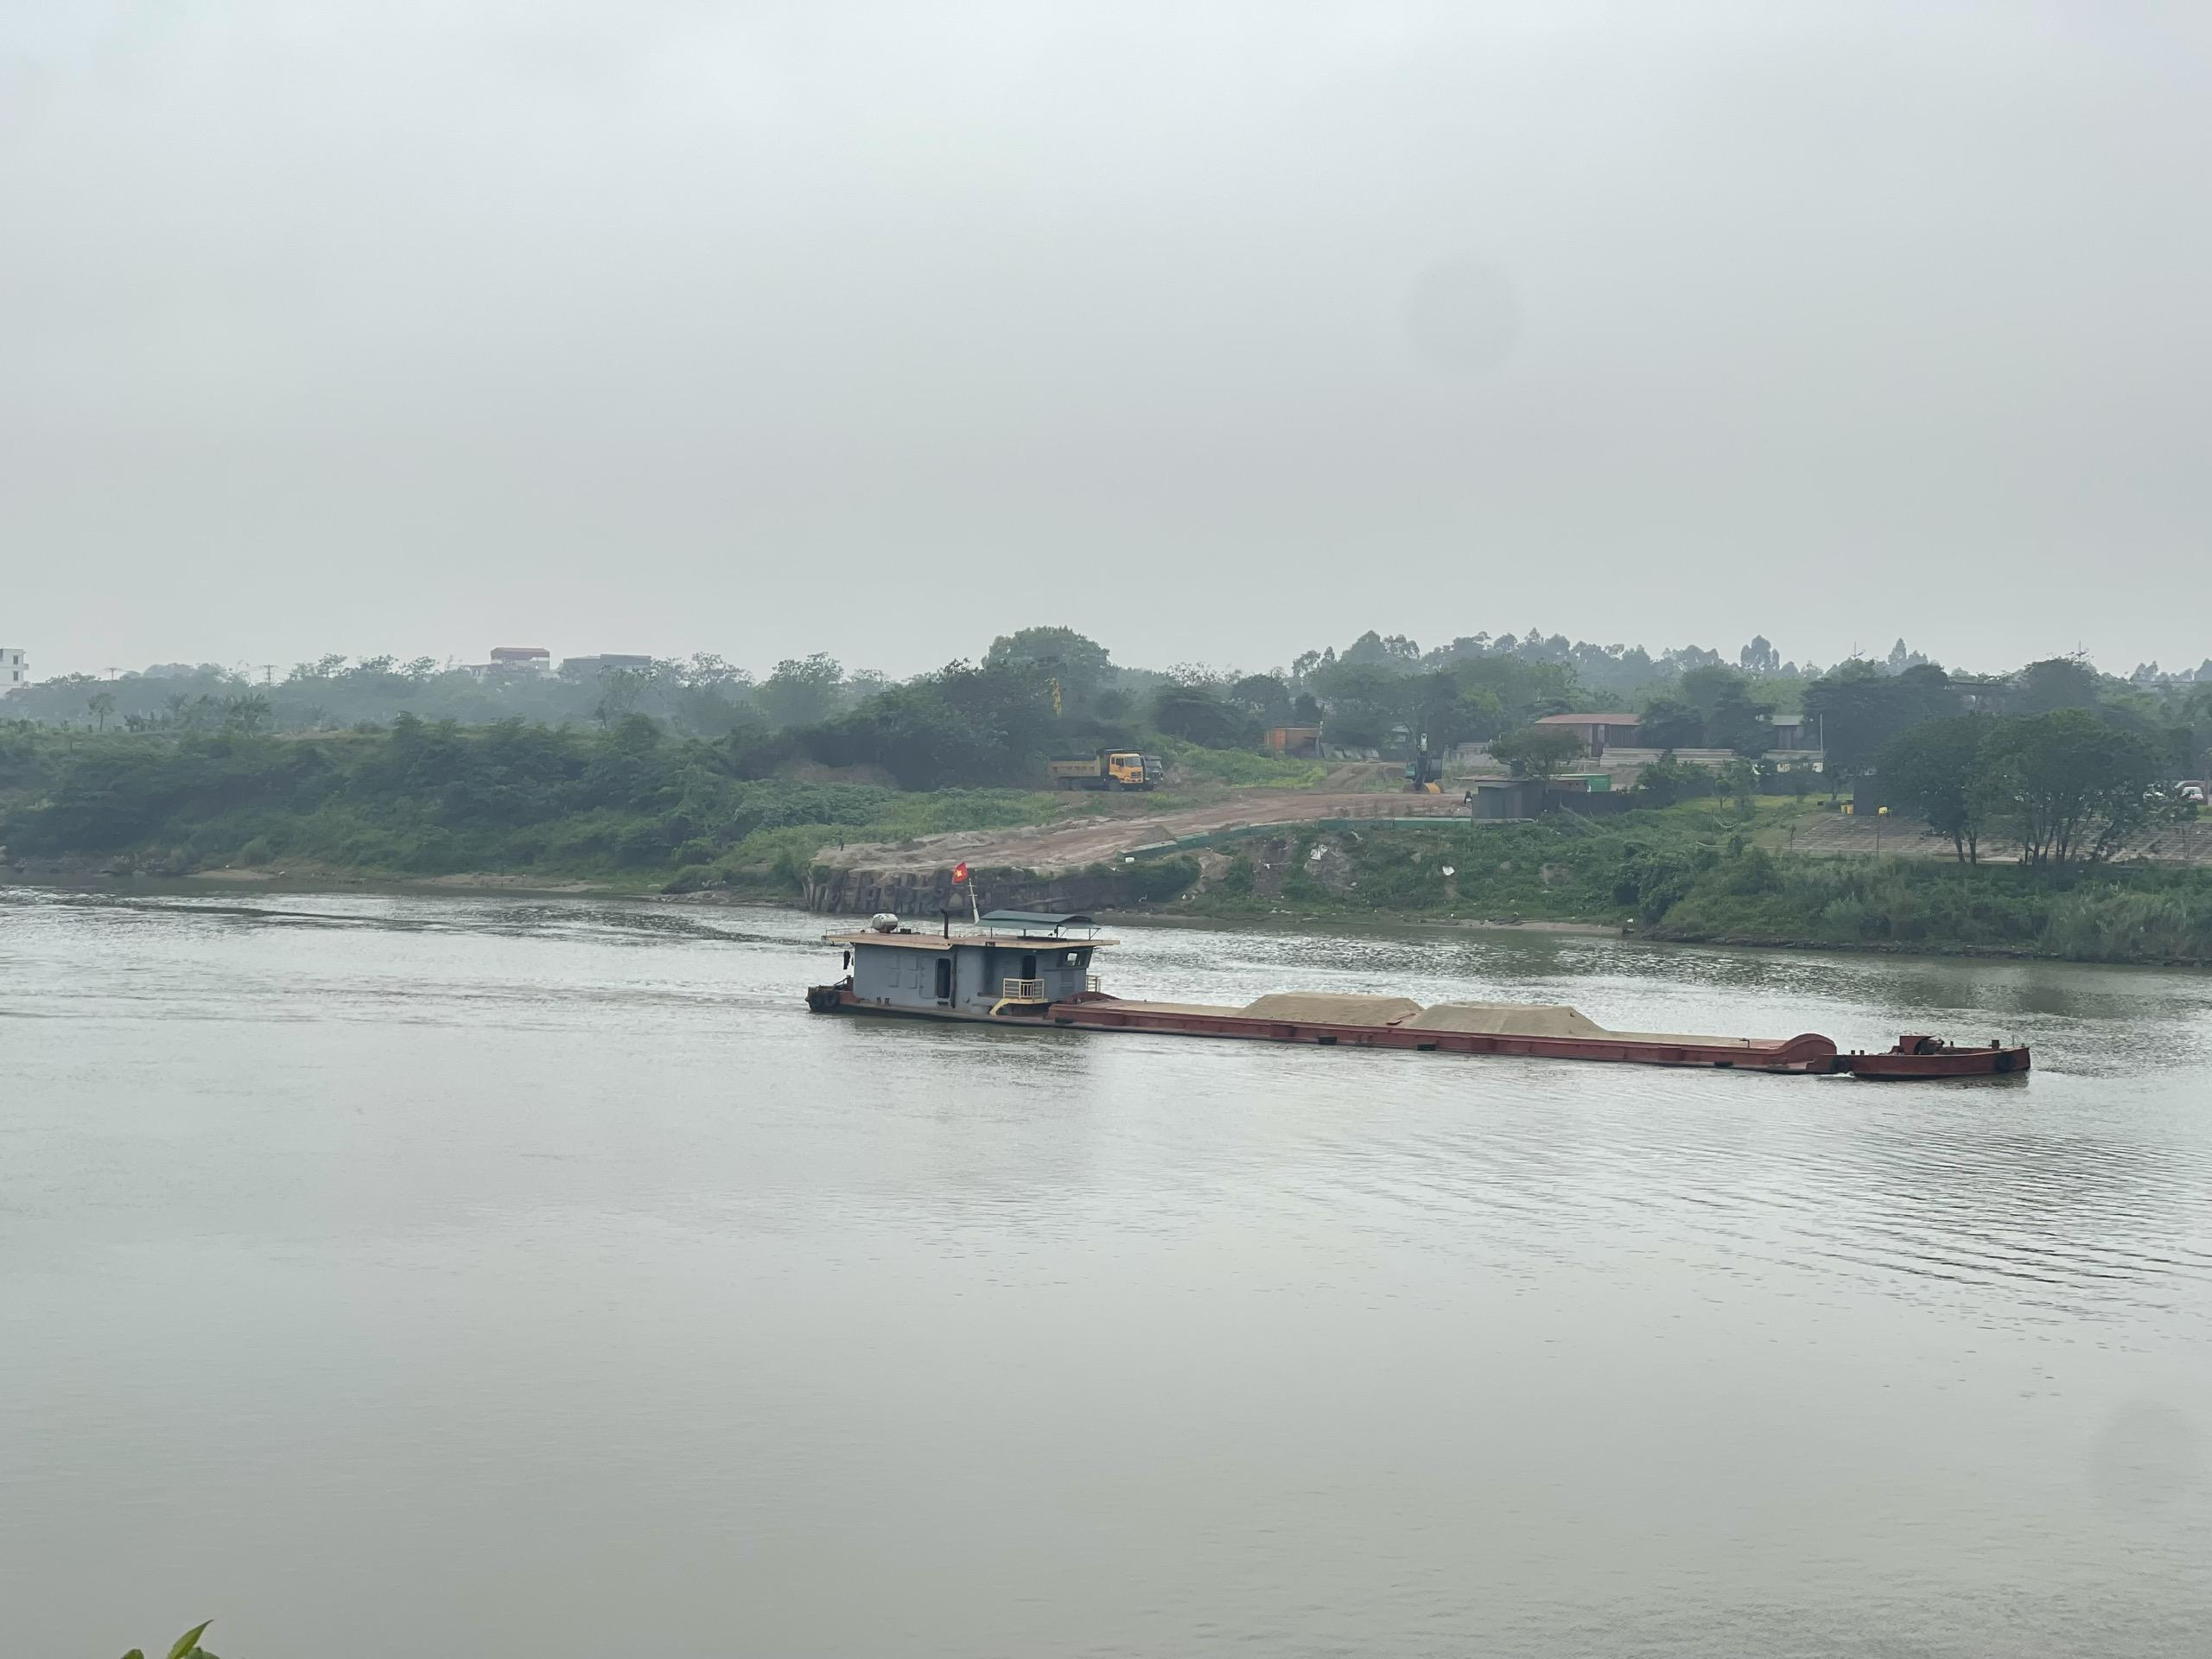Ship: (803, 903, 2055, 1093)
